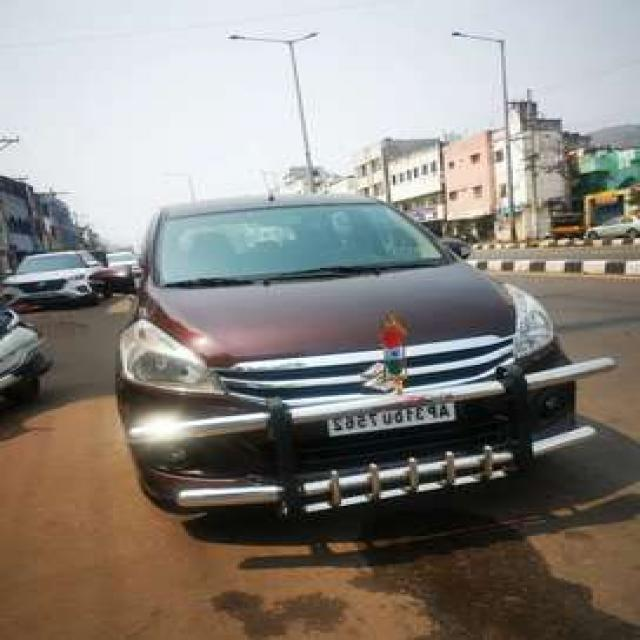license_plate: (327, 401, 457, 438)
